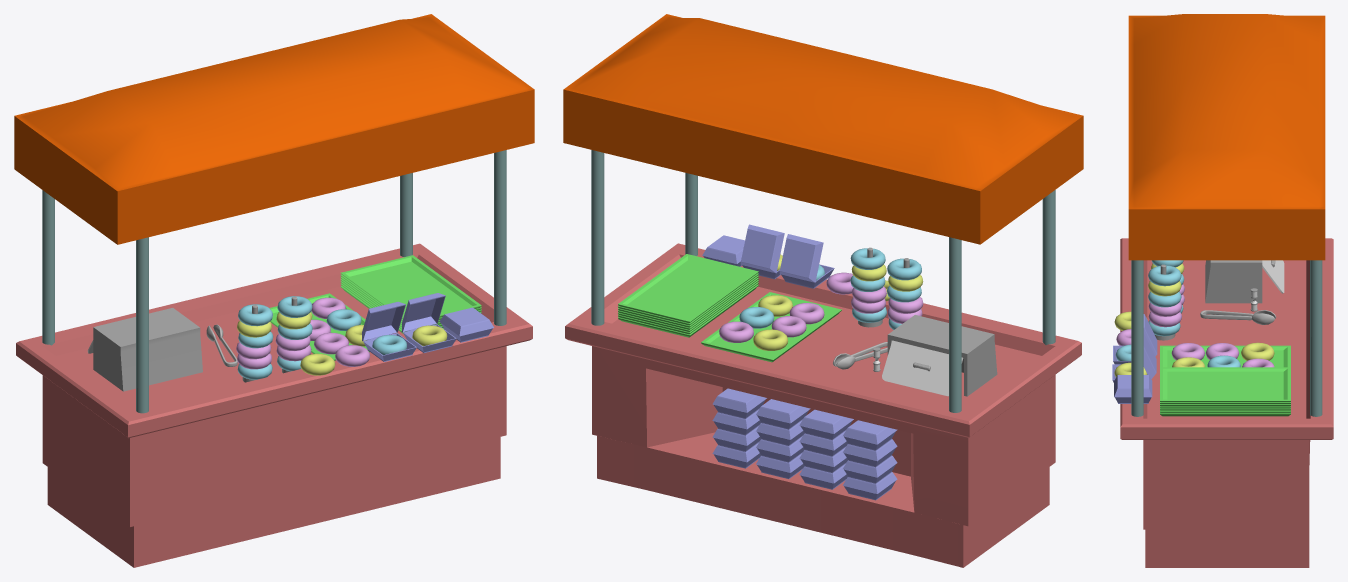
Rendered from Doughnut_stand.fbx.
3 renders of one model, left to right at view 1: azimuth 30°, elevation 25°; view 2: azimuth 150°, elevation 25°; view 3: azimuth 270°, elevation 25°, orthographic. The views are drawn at different scales.
Parts seen in each view (by area): view 1: stand_main, pCube2, pCube11, pCube10, pCylinder1, pCylinder2, pCylinder4, pCube17, pCube15, pCube16, pCylinder3, Doughnut_low13; view 2: stand_main, pCube2, pCube10, pCube11, pCube12, pCylinder3, pCylinder4, pCylinder1, pCube18, pCube17, pCube15, pCube22 (+17 smaller); view 3: pCube2, stand_main, pCube10, pCube11, pCylinder2, pCylinder3, pCube18, pCube16, Merged_PM3D_Cylinder3D_2, Doughnut_low6, pCube4, pCube12 (+16 smaller).
Part boxes in pixels (x1,y1,x2,y2): stand_main: (16, 243, 532, 567); pCube2: (14, 14, 534, 244); pCube11: (93, 308, 202, 391); pCube10: (340, 255, 481, 318); pCylinder1: (136, 237, 148, 413); pCylinder2: (494, 150, 506, 325); pCylinder4: (42, 190, 54, 345); pCube17: (362, 301, 416, 361); pCube15: (401, 293, 456, 352); pCube16: (439, 307, 493, 342); pCylinder3: (400, 173, 412, 256); Doughnut_low13: (300, 353, 335, 375); stand_main: (565, 243, 1081, 567); pCube2: (563, 14, 1083, 244); pCube10: (618, 254, 758, 323); pCube11: (887, 315, 997, 396); pCube12: (882, 340, 963, 396); pCylinder3: (591, 150, 604, 325); pCylinder4: (949, 237, 961, 412); pCylinder1: (1042, 190, 1055, 344); pCube18: (701, 292, 841, 362); pCube17: (779, 234, 834, 288); pCube15: (740, 224, 784, 279); pCube22: (843, 420, 897, 450); pCube2: (1128, 14, 1325, 260); stand_main: (1120, 238, 1333, 567); pCube10: (1160, 367, 1290, 402); pCube11: (1205, 260, 1262, 303); pCylinder2: (1131, 260, 1143, 416); pCylinder3: (1310, 260, 1322, 416); pCube18: (1160, 345, 1290, 367); pCube16: (1114, 375, 1152, 403); Merged_PM3D_Cylinder3D_2: (1200, 310, 1276, 324); Doughnut_low6: (1148, 265, 1181, 286); pCube4: (1160, 412, 1290, 416); pCube12: (1262, 260, 1284, 293).
Size of the model in its own units: 257 by 248 by 124.
